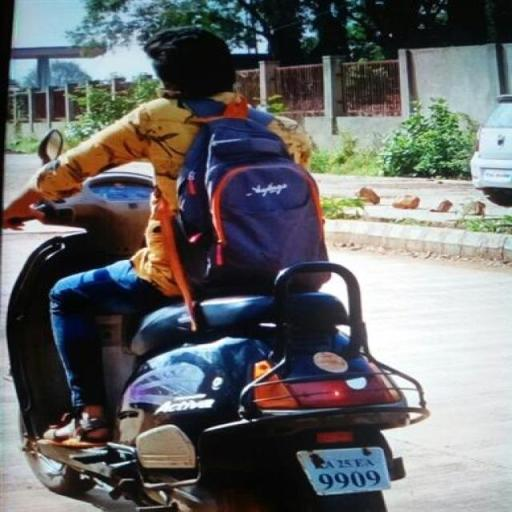using mobile: (153, 82, 190, 102)
